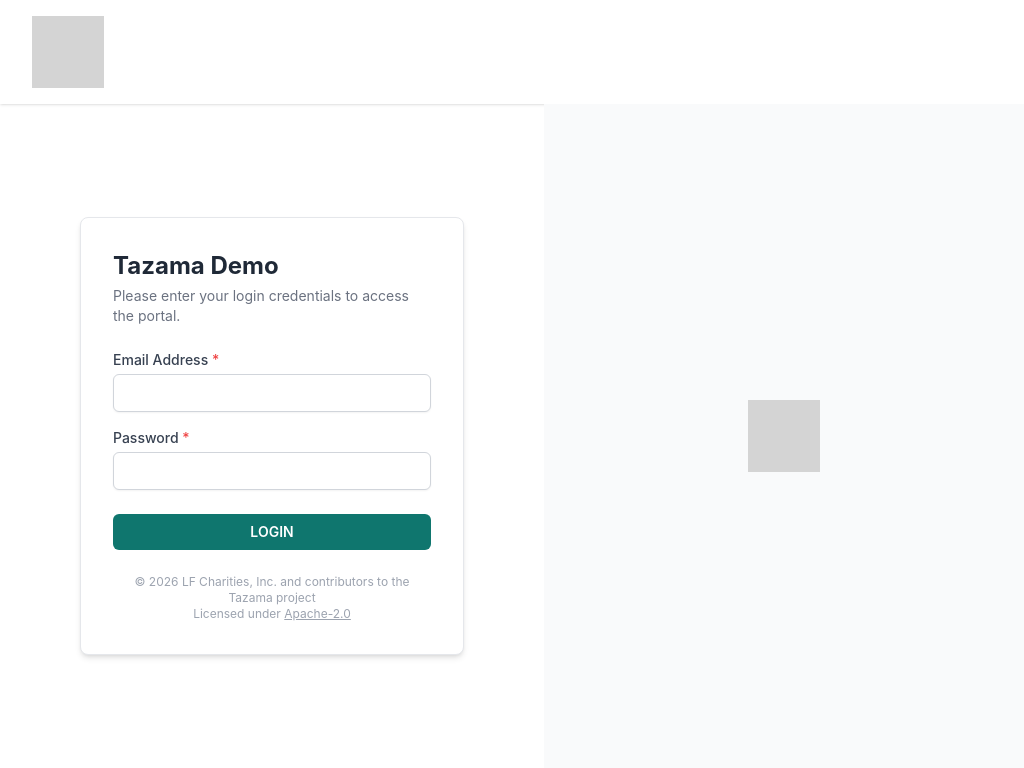
Scenario: LoginPage - what we do with the signIn() result › shows 'Invalid credentials' and does not navigate when authorize() fails
The image size is (1024, 768).
Type "u@example.com" into the field labelled "Email Address *" at (272, 393), box [113,374,431,412]
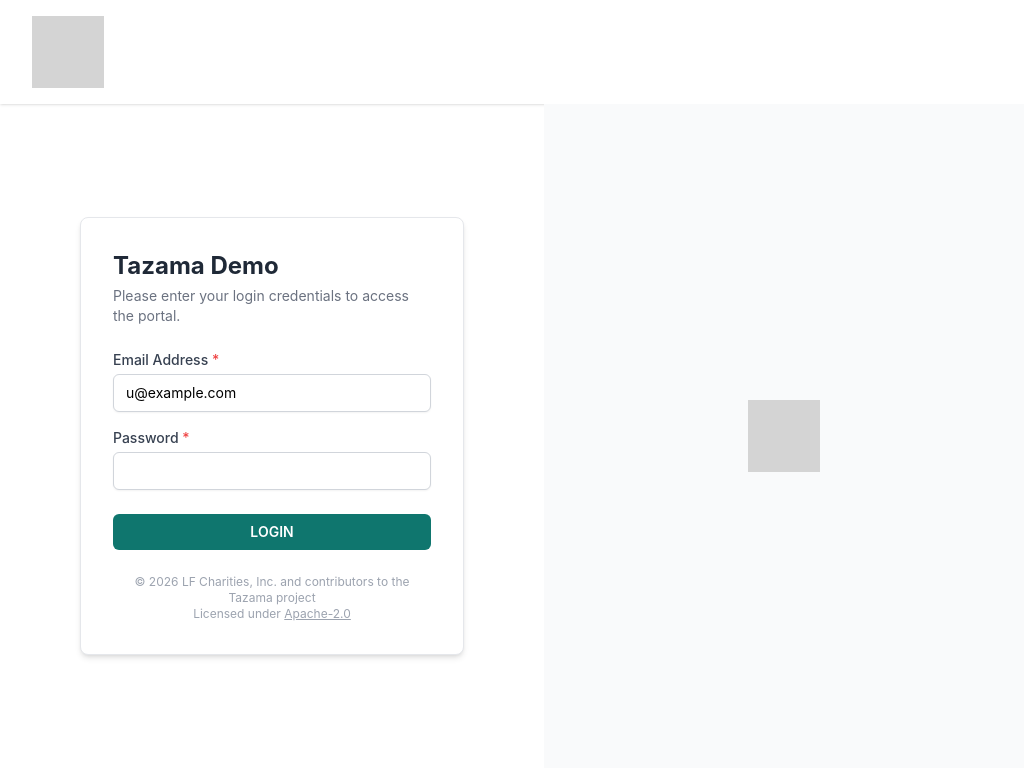
Type "pw" into the password field labelled "Password *" at (272, 471), box [113,452,431,490]
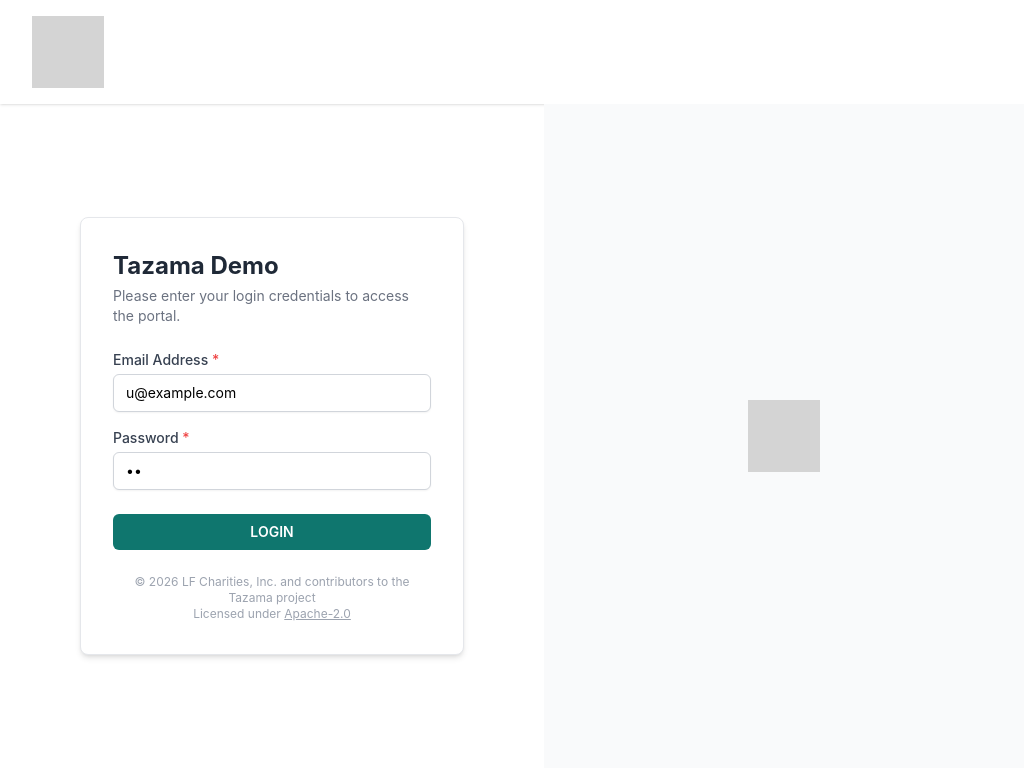
Click the button "LOGIN" at (272, 532), box [113,514,431,550]
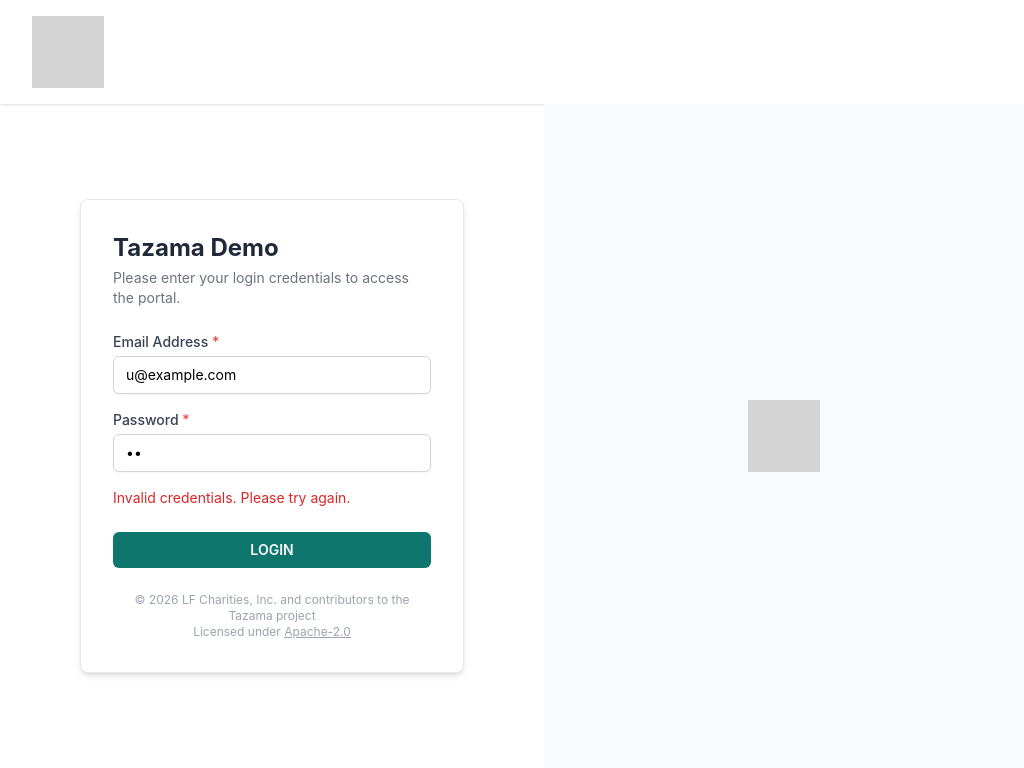
Expected: the message shows "Invalid credentials", [113,489,350,506]
